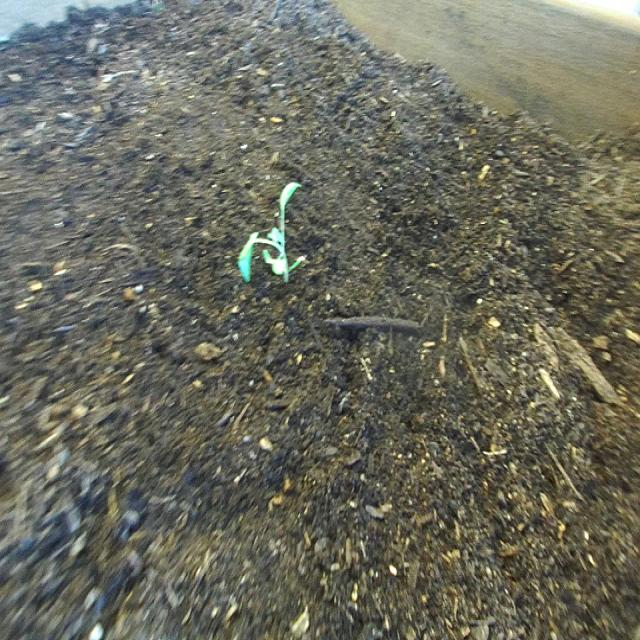Healthy: (234, 175, 310, 292)
